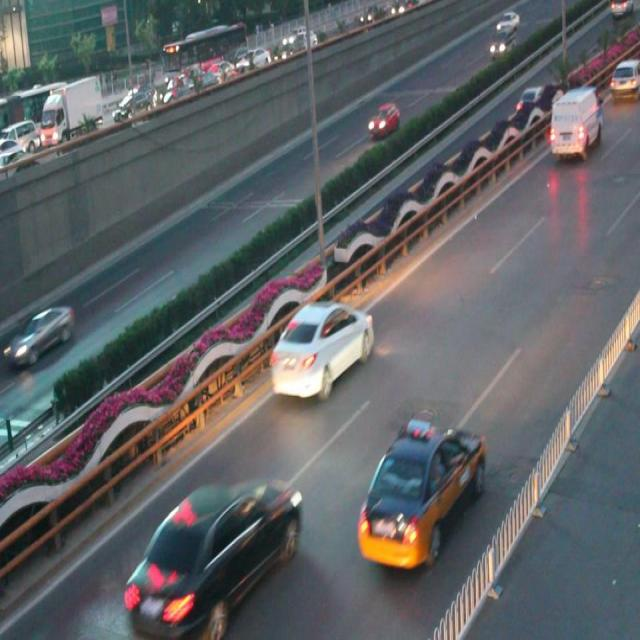car: (127, 476, 299, 632), (357, 420, 486, 564), (270, 301, 374, 398), (1, 305, 73, 373), (513, 87, 553, 129), (366, 102, 398, 140)
truck: (549, 88, 601, 158)
